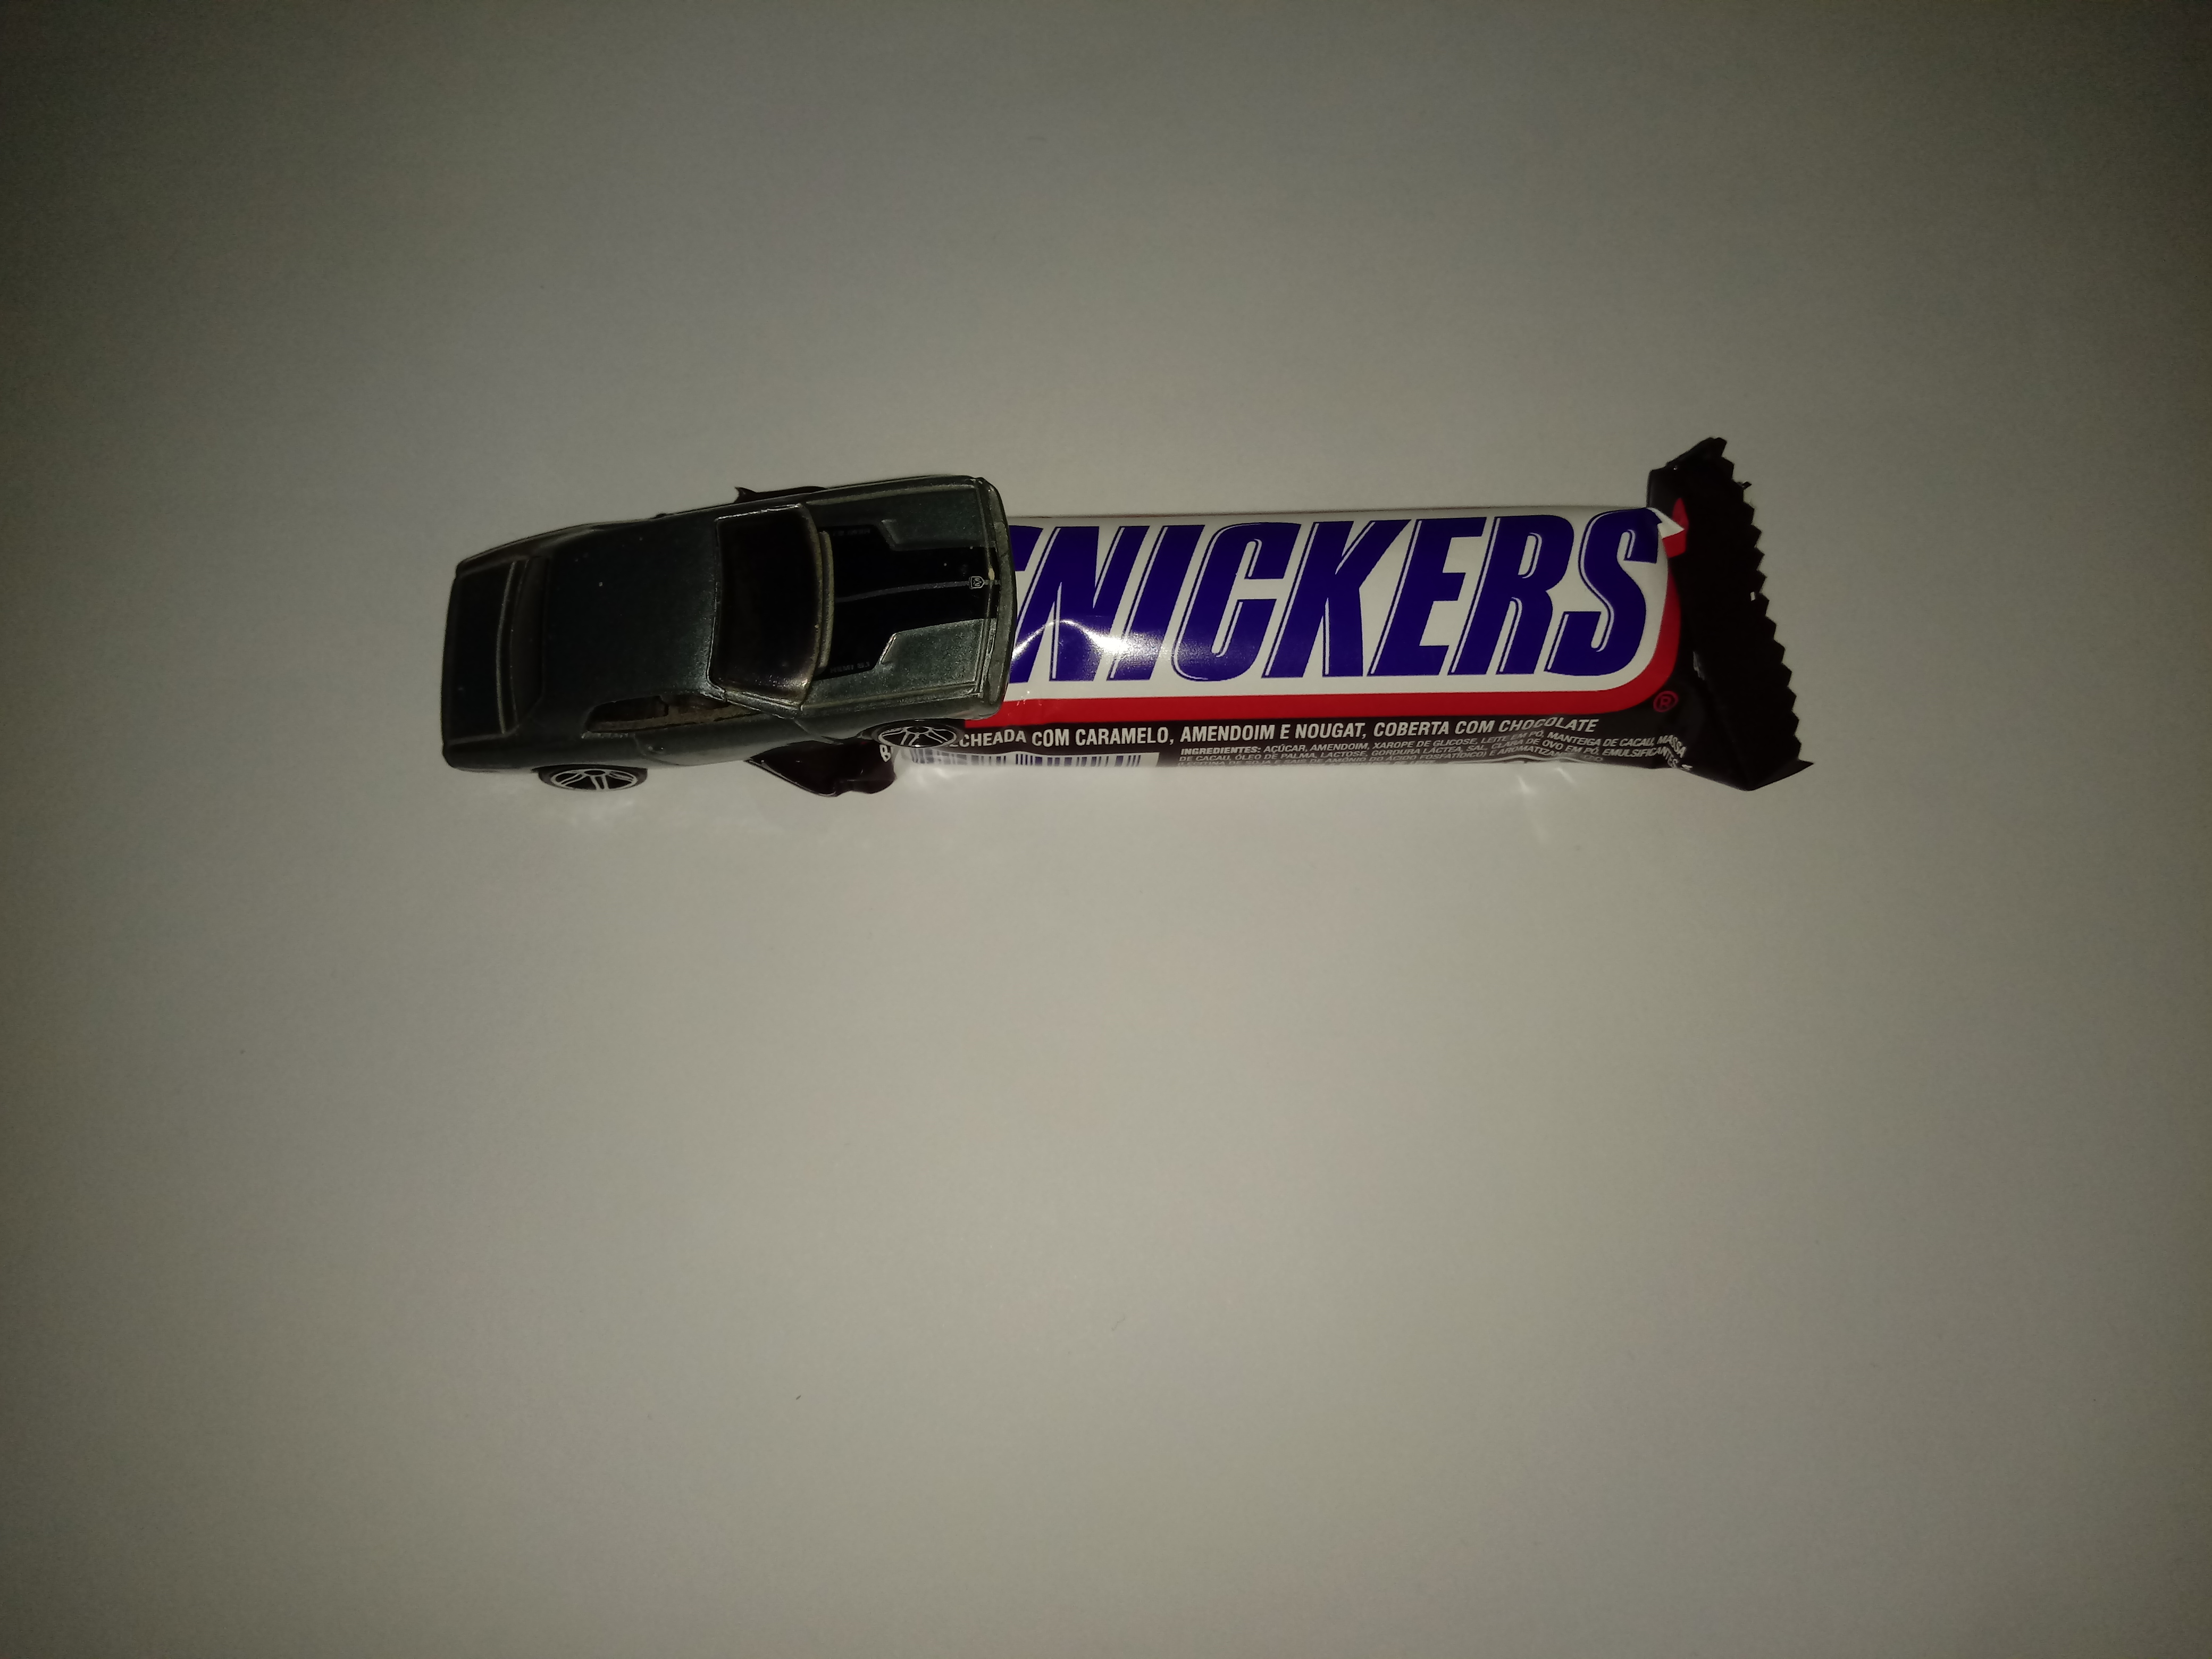snickers: (709, 423, 1820, 812)
